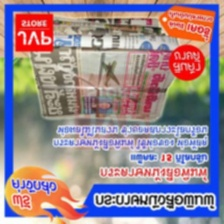news_paper: (24, 17, 182, 122)
